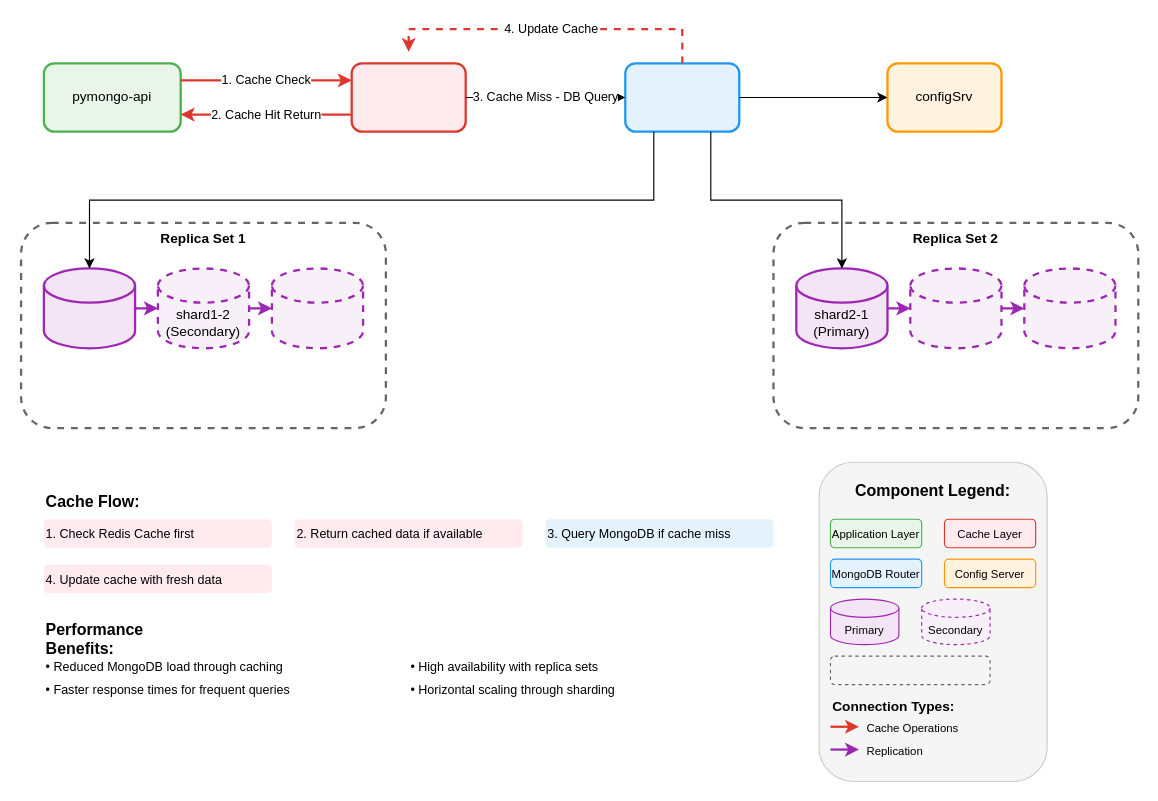
Some shapes in this 1158 by 801 pixel diagram are drawn without their labels. Here are the shapes that lost their labels. From the top down, the centre of each, then its label:
At [408,97]: "Redis Cache".
At [682,97]: "mongos Router".
At [89,308]: "shard1-1 (Primary)".
At [317,308]: "shard1-3 (Secondary)".
At [955,308]: "shard2-2 (Secondary)".
At [1069,308]: "shard2-3 (Secondary)".
At [909,670]: "Replica Set Boundary".
